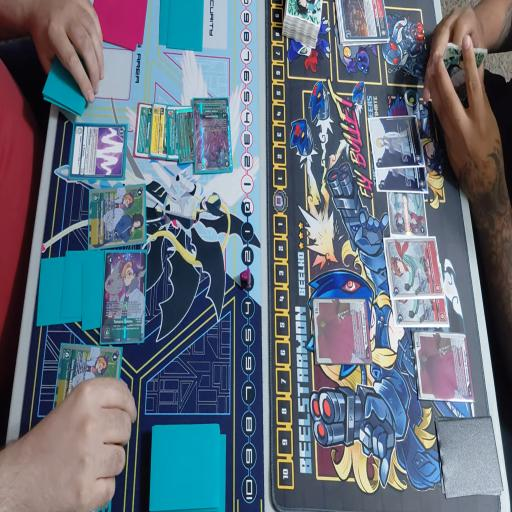card: (52, 344, 124, 415), (100, 251, 148, 343), (311, 298, 374, 364), (385, 231, 442, 301), (414, 334, 473, 400), (88, 185, 146, 249), (192, 94, 230, 179), (68, 125, 128, 178), (368, 113, 422, 171), (338, 0, 390, 43), (386, 190, 428, 239), (390, 297, 450, 329), (375, 166, 429, 194), (174, 107, 194, 166), (149, 103, 168, 159), (136, 102, 153, 155), (165, 102, 177, 159)
